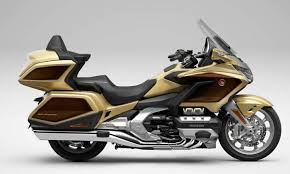motorcycle: (17, 20, 281, 162)
